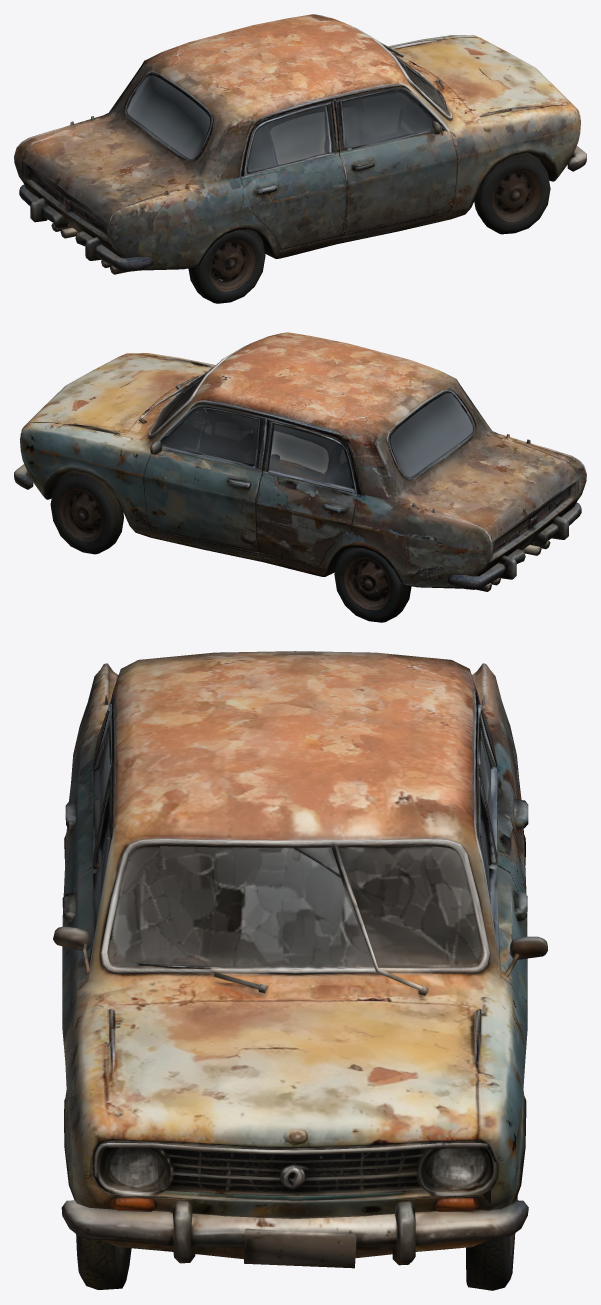
3 renders of one model, top to bottom at view 1: azimuth 30°, elevation 25°; view 2: azimuth 150°, elevation 25°; view 3: azimuth 270°, elevation 25°, orthographic. The views are drawn at different scales.
Visible parts, largest first — view 1: tripo_node_6a983109-d29d-4ff4-a95e-6c255d1cc20f; view 2: tripo_node_6a983109-d29d-4ff4-a95e-6c255d1cc20f; view 3: tripo_node_6a983109-d29d-4ff4-a95e-6c255d1cc20f.
Boxes of the visible parts, x1,y1,x2,y2 form: tripo_node_6a983109-d29d-4ff4-a95e-6c255d1cc20f: (14, 14, 586, 303); tripo_node_6a983109-d29d-4ff4-a95e-6c255d1cc20f: (14, 332, 586, 622); tripo_node_6a983109-d29d-4ff4-a95e-6c255d1cc20f: (53, 651, 547, 1290).
Size of the model in its own units: 0.9995 by 0.3755 by 0.4419.
1 material, 1 textured.
